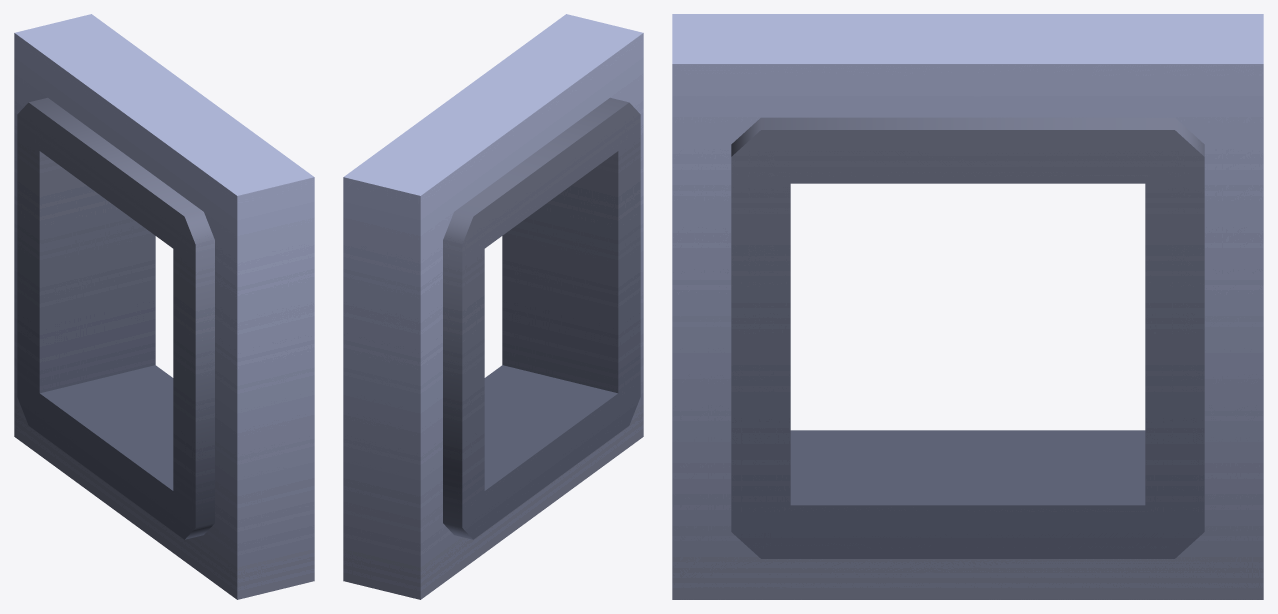
The model's file is wall-window-large.glb.
3 renders of one model, left to right at view 1: azimuth 30°, elevation 25°; view 2: azimuth 150°, elevation 25°; view 3: azimuth 270°, elevation 25°, orthographic. The views are drawn at different scales.
Parts seen in each view (by area): view 1: wall-window-large; view 2: wall-window-large; view 3: wall-window-large.
Boxes of the visible parts, x1,y1,x2,y2 form: wall-window-large: (14, 14, 314, 599); wall-window-large: (343, 14, 643, 599); wall-window-large: (672, 14, 1263, 599).
Size of the model in its own units: 0.3 by 1 by 1.
1 material, 1 textured.
